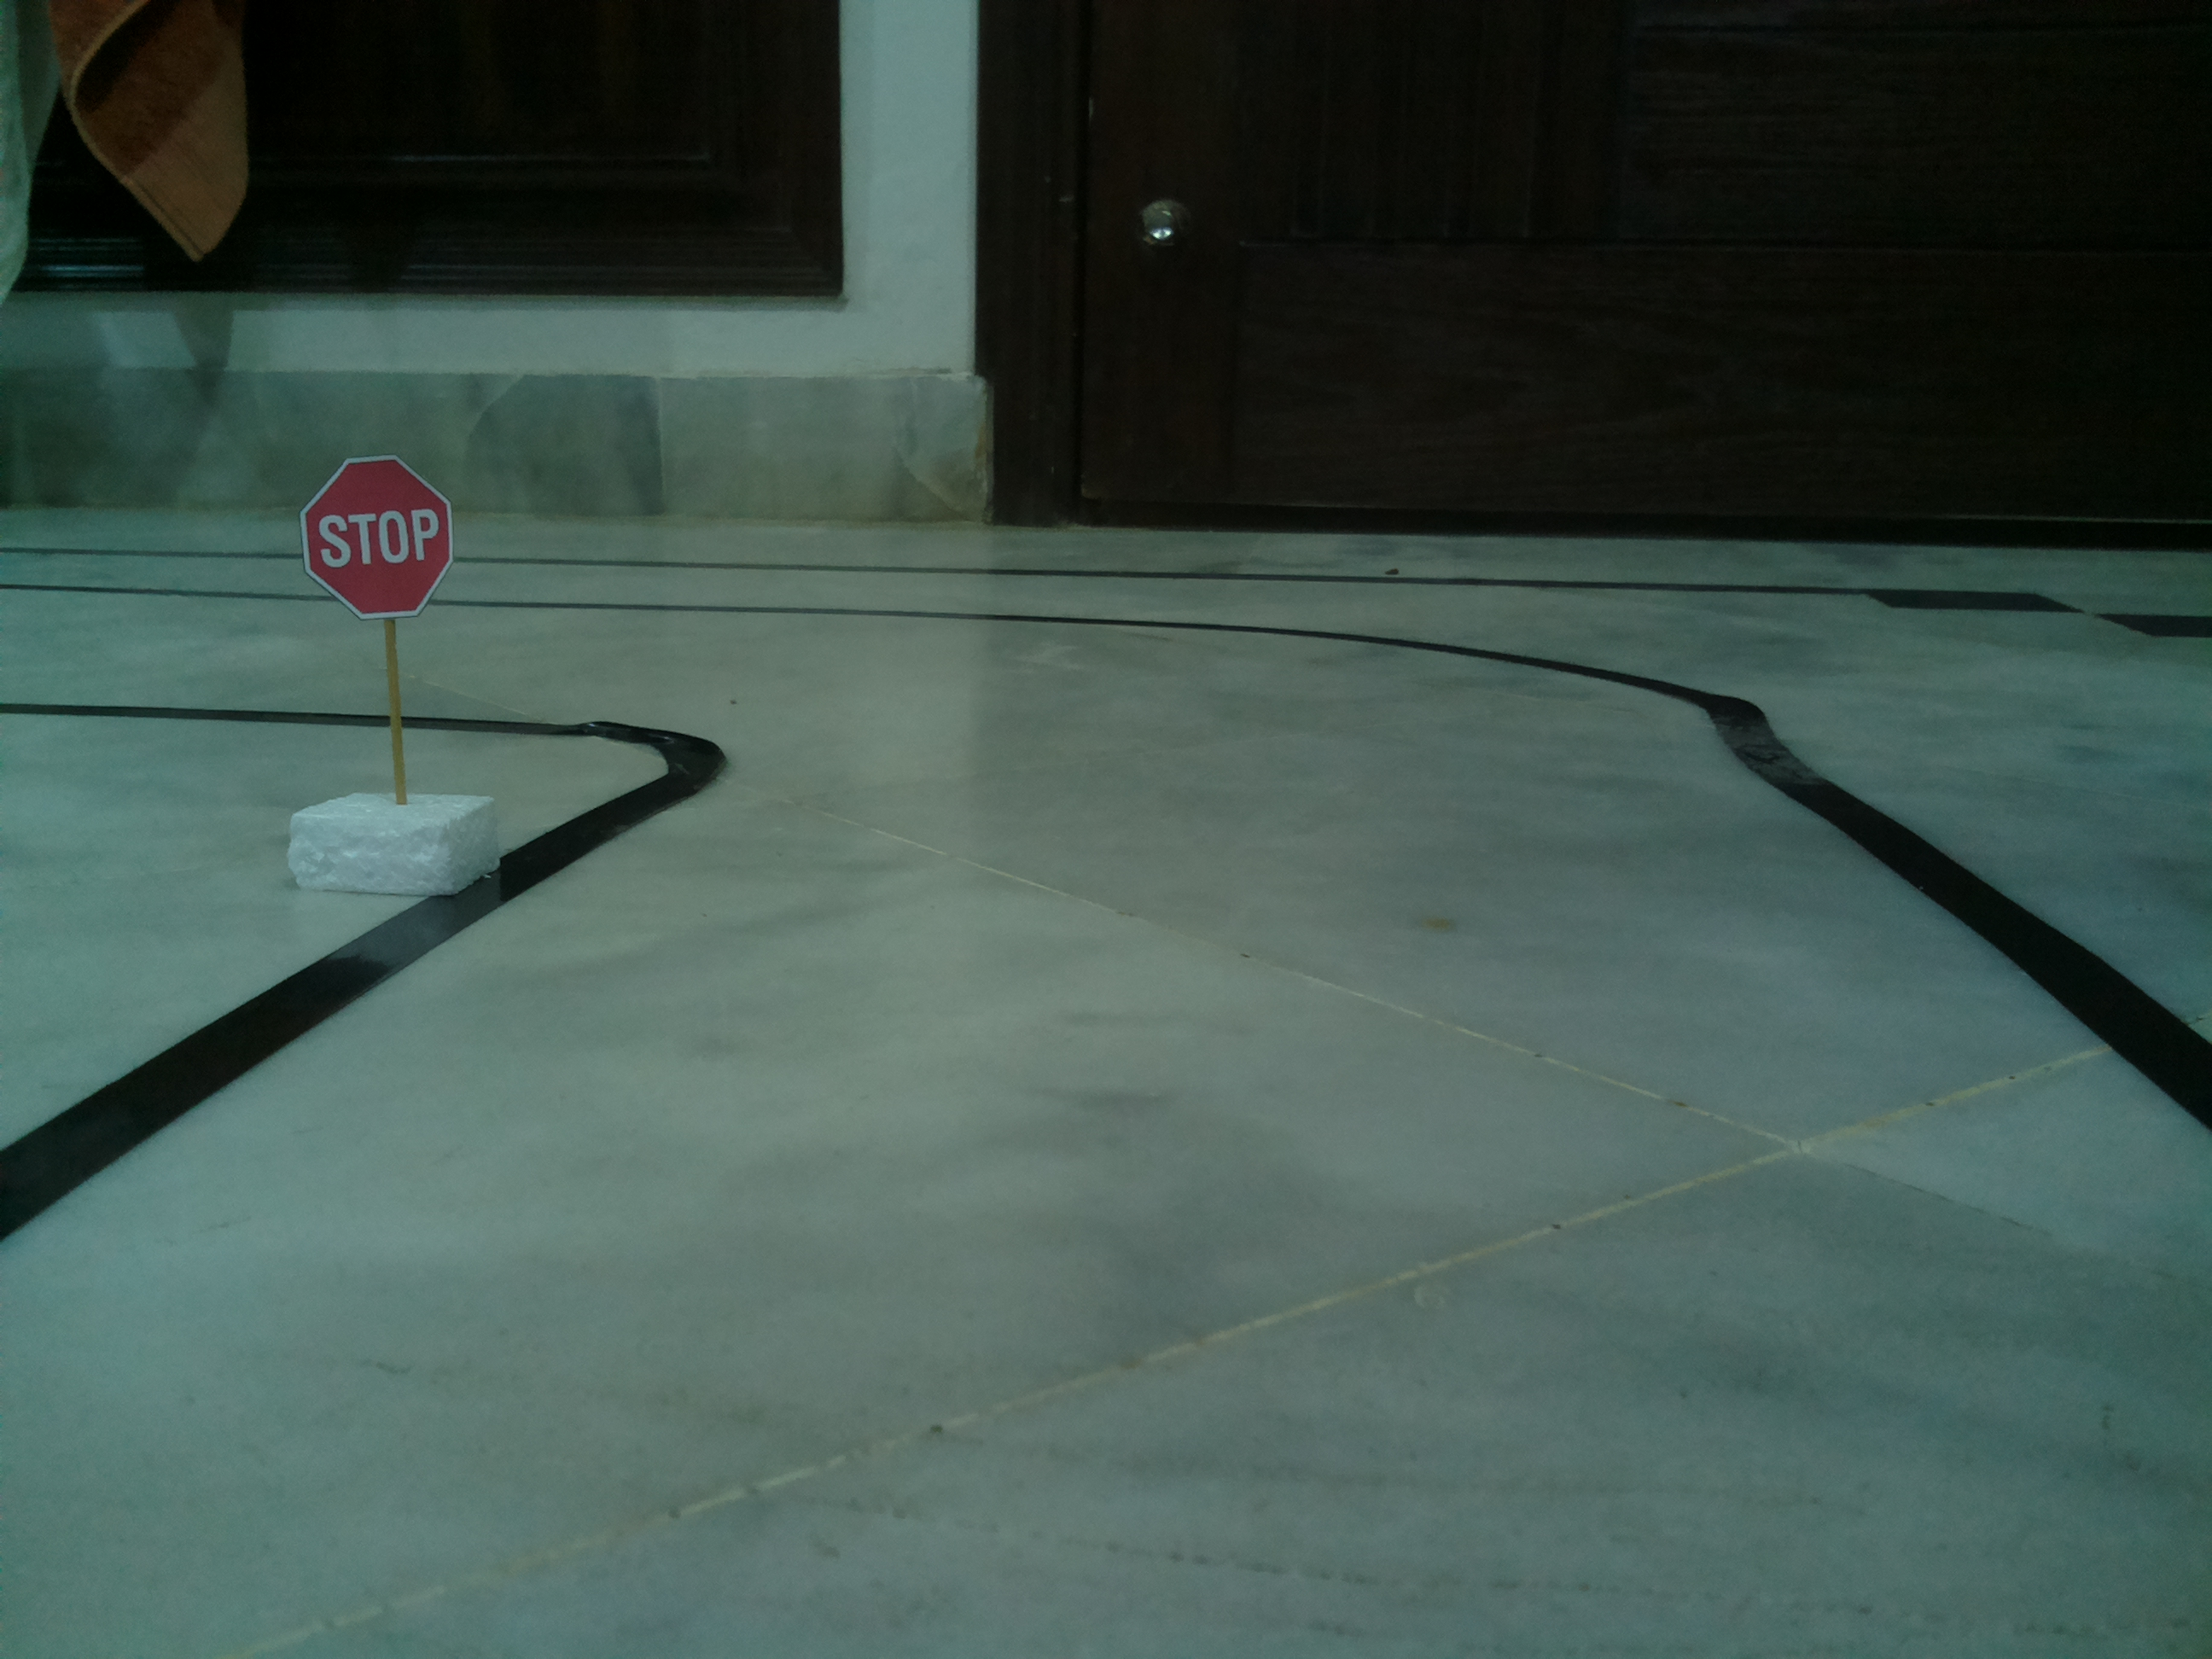Stop sign: (296, 451, 460, 622)
